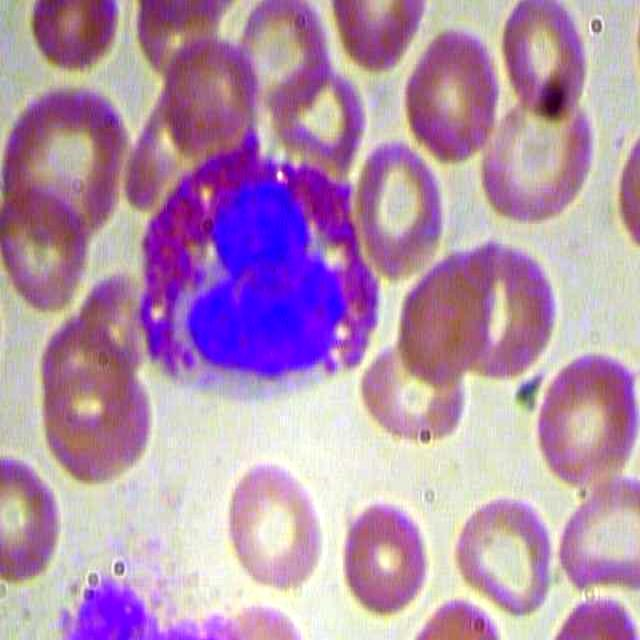RBC: (342, 133, 458, 290), (524, 346, 640, 498), (476, 92, 598, 223), (395, 19, 504, 165), (222, 458, 332, 590), (329, 480, 439, 612), (450, 488, 560, 620), (492, 1, 607, 124), (395, 246, 489, 382), (1, 172, 94, 308), (1, 441, 66, 595)
WBC: (126, 151, 387, 393)
